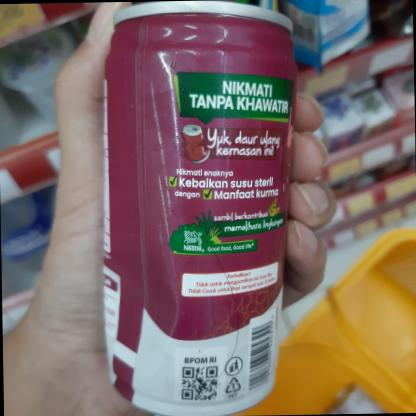alumunium_can: (94, 7, 310, 416)
